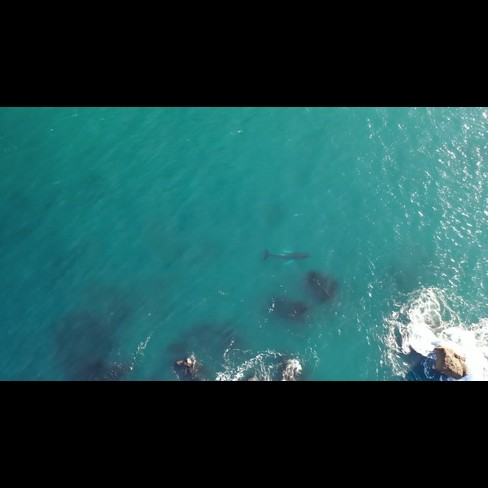hump: (252, 242, 320, 272)
